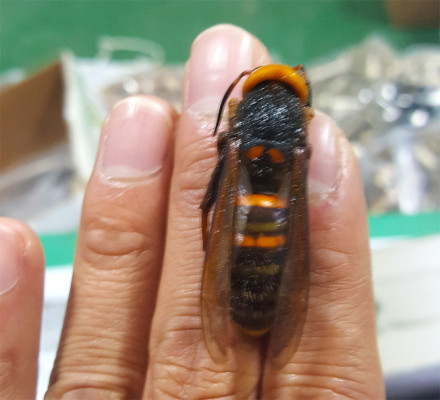asian_giant_hornet: (200, 60, 316, 352)
